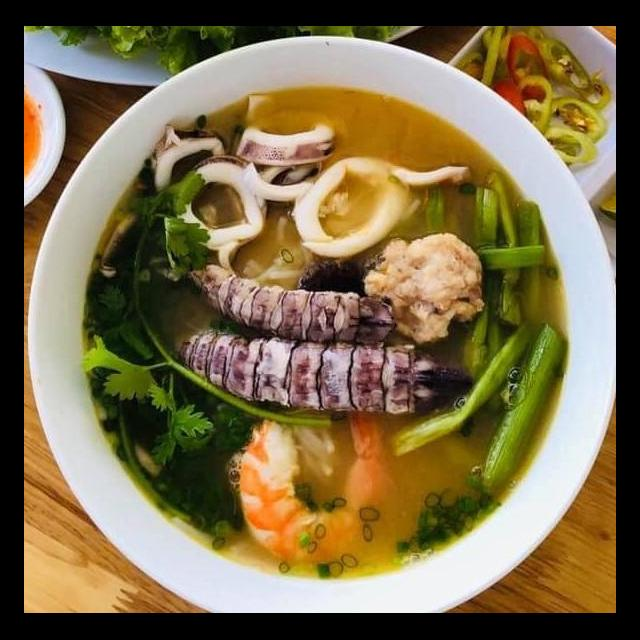muc: (286, 150, 478, 260), (166, 150, 278, 280), (142, 120, 234, 206), (232, 102, 338, 170)
tom: (231, 399, 398, 572)
tom tit: (167, 324, 486, 429), (175, 256, 401, 352)
